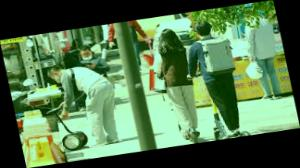nonhelmet: (177, 17, 254, 142), (145, 26, 207, 147)
